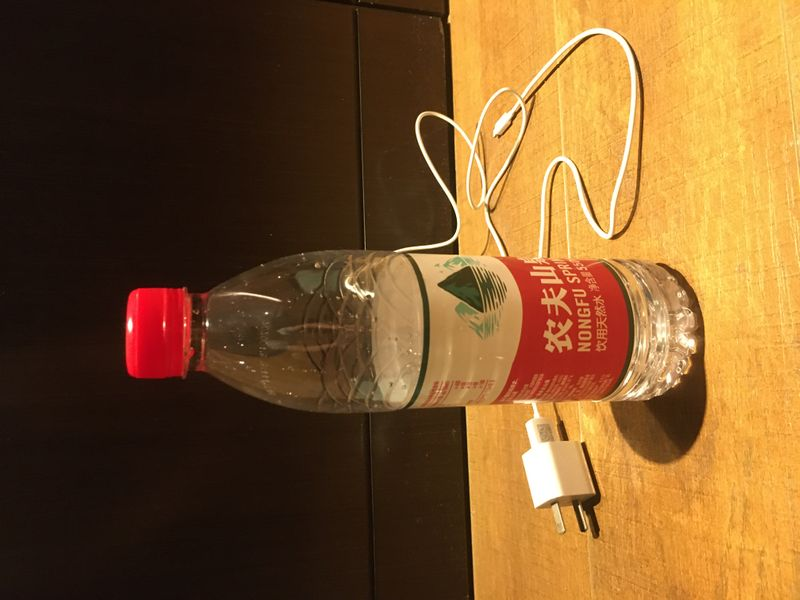5eca67a90202601e8cb8d104: (122, 249, 700, 409)
